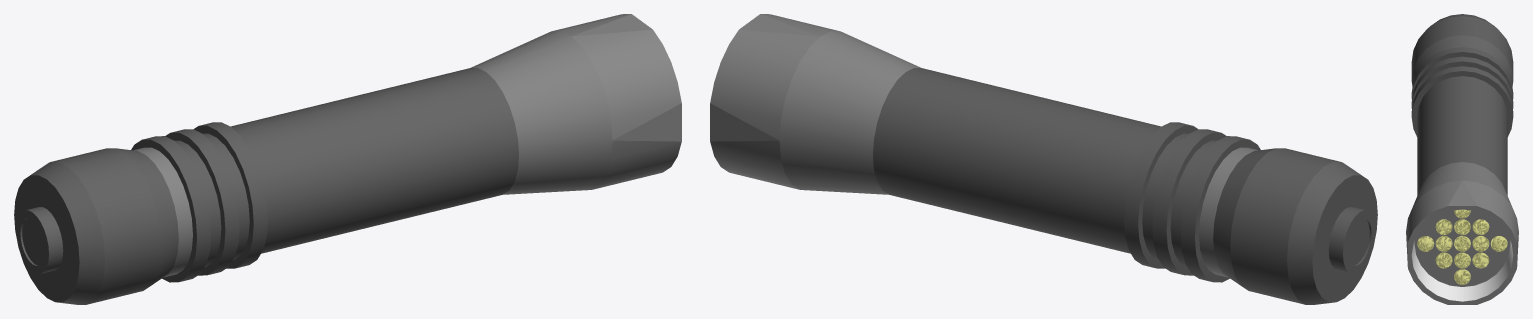
File: Zaklamp.fbx
3 renders of one model, left to right at view 1: azimuth 30°, elevation 25°; view 2: azimuth 150°, elevation 25°; view 3: azimuth 270°, elevation 25°, orthographic. The views are drawn at different scales.
Parts seen in each view (by area): view 1: FlashLightThingamajig1; view 2: FlashLightThingamajig1; view 3: FlashLightThingamajig1.
Part boxes in pixels (x1,y1,x2,y2): FlashLightThingamajig1: [14, 14, 681, 304]; FlashLightThingamajig1: [710, 14, 1377, 304]; FlashLightThingamajig1: [1406, 14, 1518, 304].
Bounding box in the file's own units: 137 × 31.75 × 31.75.
